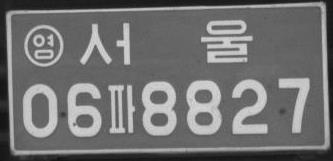0: (20, 82, 59, 139)
2: (230, 76, 269, 136)
6: (66, 81, 102, 137)
7: (276, 75, 311, 134)
8: (184, 79, 222, 136), (140, 79, 177, 136)
서울_D: (78, 18, 253, 66)
영: (22, 23, 65, 67)
파: (106, 83, 137, 134)
